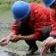boots: (26, 45, 38, 55), (1, 1, 1, 1)
hard-hat: (12, 0, 30, 20)
vest: (8, 1, 55, 53)
